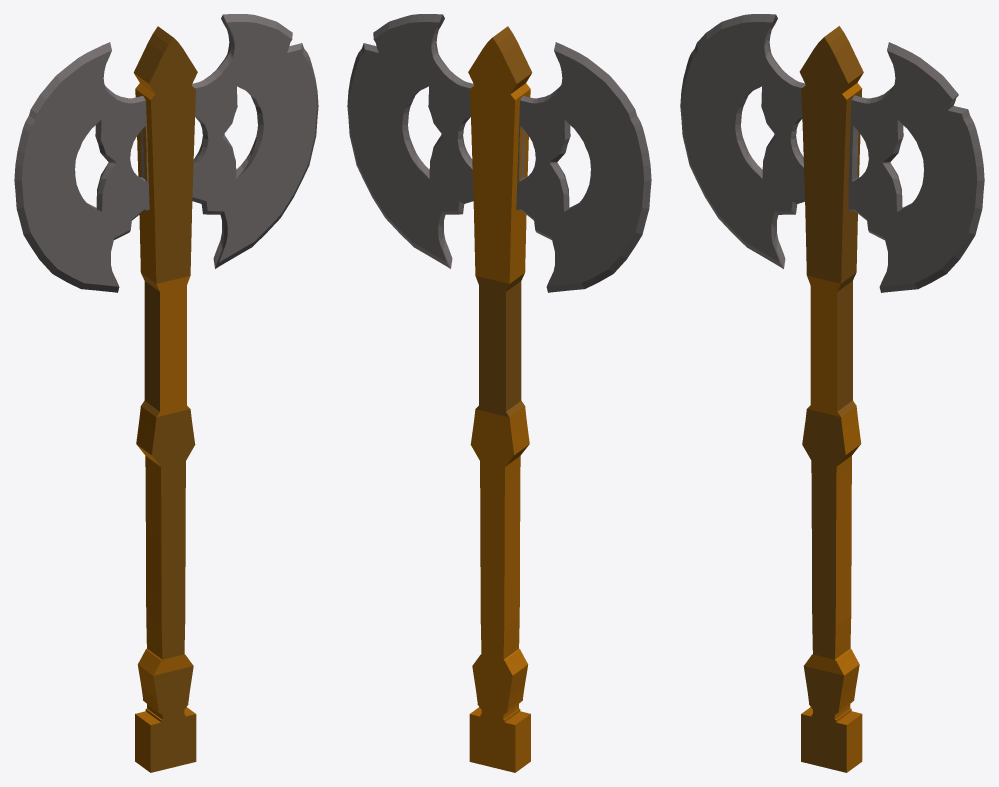
The model's file is axeCopy-zpVJkzOf.glb.
The picture shows the model from 3 angles, left to right: view 1: azimuth 30°, elevation 25°; view 2: azimuth 150°, elevation 25°; view 3: azimuth 330°, elevation 25°; orthographic projection.
Parts seen in each view (by area): view 1: HojaAxe, Axe; view 2: HojaAxe, Axe; view 3: HojaAxe, Axe.
Part boxes in pixels (<box>): HojaAxe: <box>14,14,318,292</box>; Axe: <box>133,26,197,772</box>; HojaAxe: <box>347,14,651,292</box>; Axe: <box>468,26,532,772</box>; HojaAxe: <box>680,14,984,292</box>; Axe: <box>799,26,863,772</box>.
Size of the model in its own units: 2.09 by 4.81 by 0.1846.
